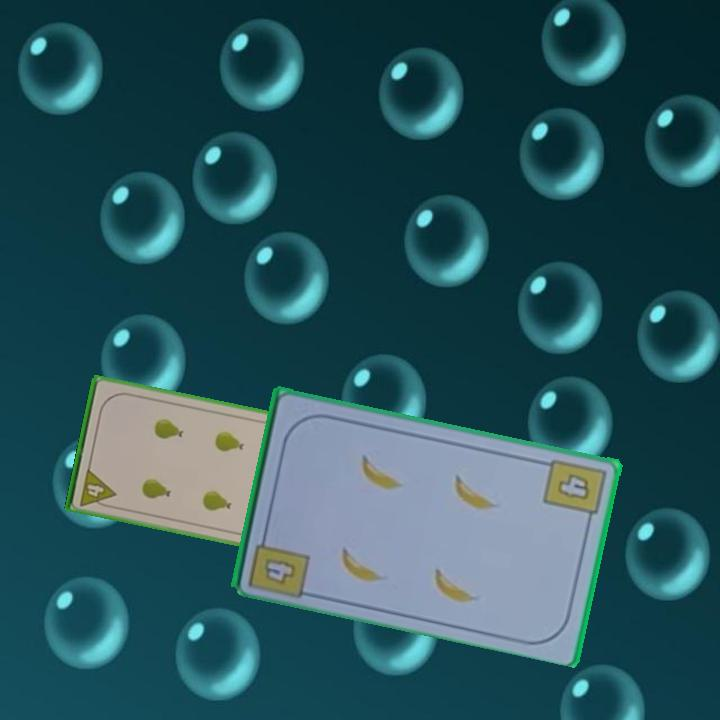4b: (539, 454, 609, 527), (260, 554, 300, 587)
4p: (76, 464, 118, 511)
